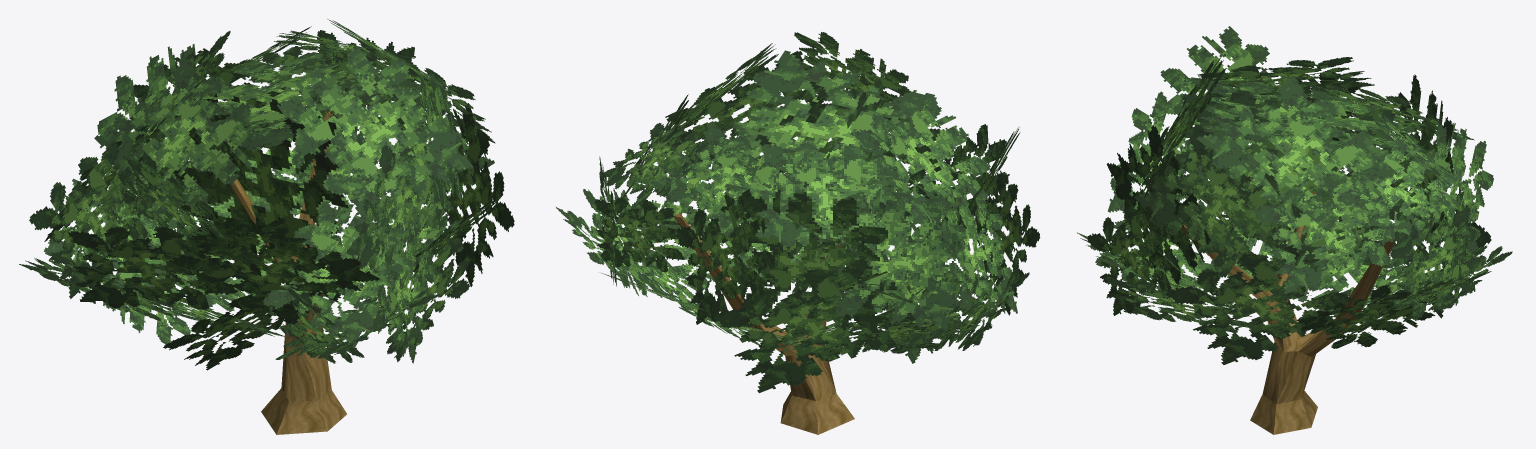
Rendered from BigTree.fbx.
3 views of the same model, side by side, from view 1: azimuth 30°, elevation 25°; view 2: azimuth 150°, elevation 25°; view 3: azimuth 270°, elevation 25° (orthographic). The views are drawn at different scales.
Visible parts, largest first — view 1: OakL_m, TreeTrunkB_m; view 2: OakL_m, TreeTrunkB_m; view 3: OakL_m, TreeTrunkB_m.
Boxes of the visible parts, x1=… form: OakL_m: x1=19, y1=19, x2=514, y2=370; TreeTrunkB_m: x1=229, y1=110, x2=358, y2=434; OakL_m: x1=556, y1=32, x2=1040, y2=393; TreeTrunkB_m: x1=674, y1=185, x2=862, y2=434; OakL_m: x1=1077, y1=26, x2=1512, y2=364; TreeTrunkB_m: x1=1181, y1=191, x2=1395, y2=434.
Size of the model in its own units: 1976 by 1681 by 1836.
